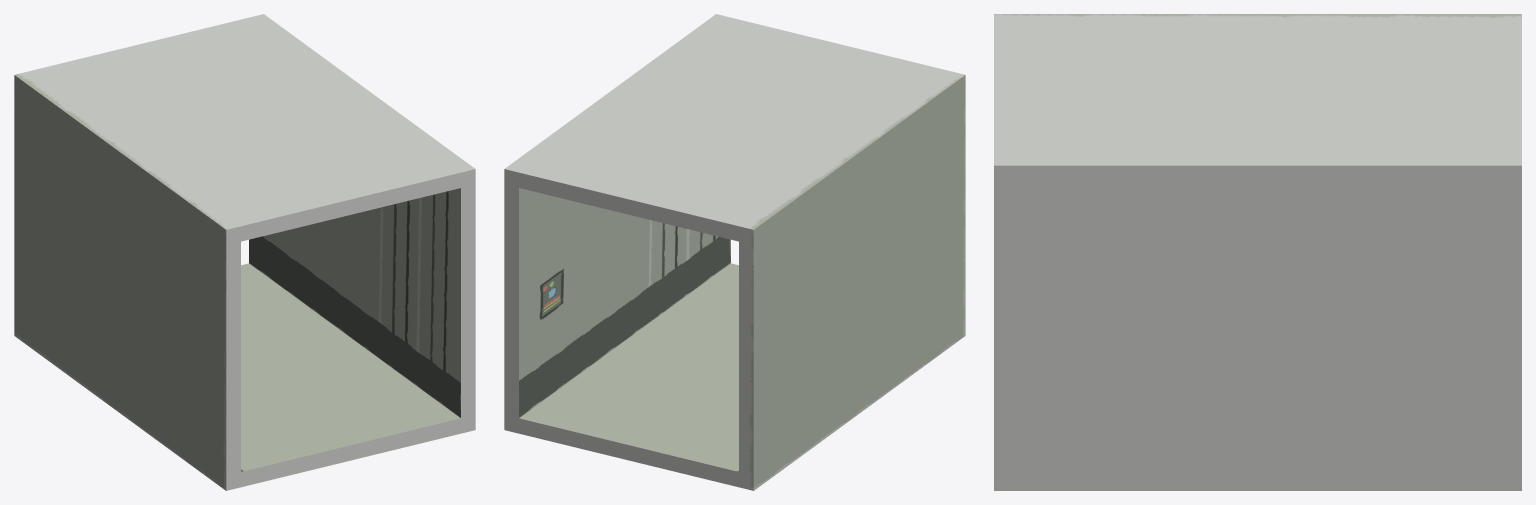
Rendered from lobby.gltf.
3 renders of one model, left to right at view 1: azimuth 30°, elevation 25°; view 2: azimuth 150°, elevation 25°; view 3: azimuth 270°, elevation 25°, orthographic. The views are drawn at different scales.
Visible parts, largest first — view 1: lobby; view 2: lobby; view 3: lobby.
Boxes of the visible parts, box(x1,y1,x2,y2) form: lobby: box(14, 14, 475, 490); lobby: box(504, 14, 965, 490); lobby: box(994, 14, 1521, 490).
Bounding box in the file's own units: 6.8 × 6.8 × 10.
Materials: 1 (1 with a texture image).
